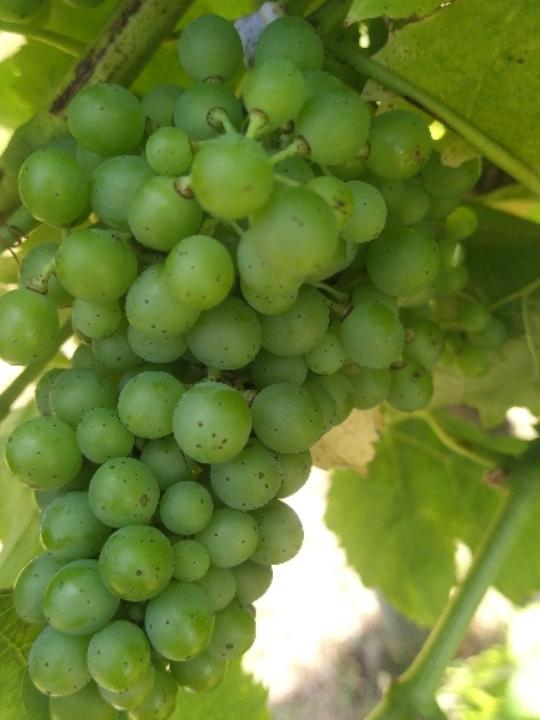grape: (0, 8, 483, 720)
